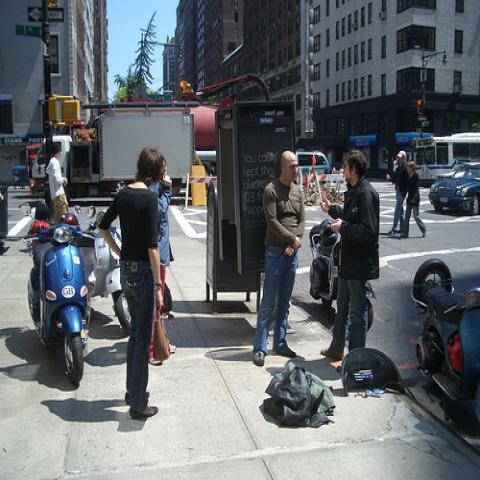bus: (413, 132, 479, 183)
car: (428, 162, 479, 215), (295, 152, 330, 175), (436, 164, 461, 182)
motorcycle: (21, 225, 97, 387), (310, 218, 378, 332), (90, 227, 134, 331)
truck: (31, 100, 201, 209), (192, 103, 222, 178)
